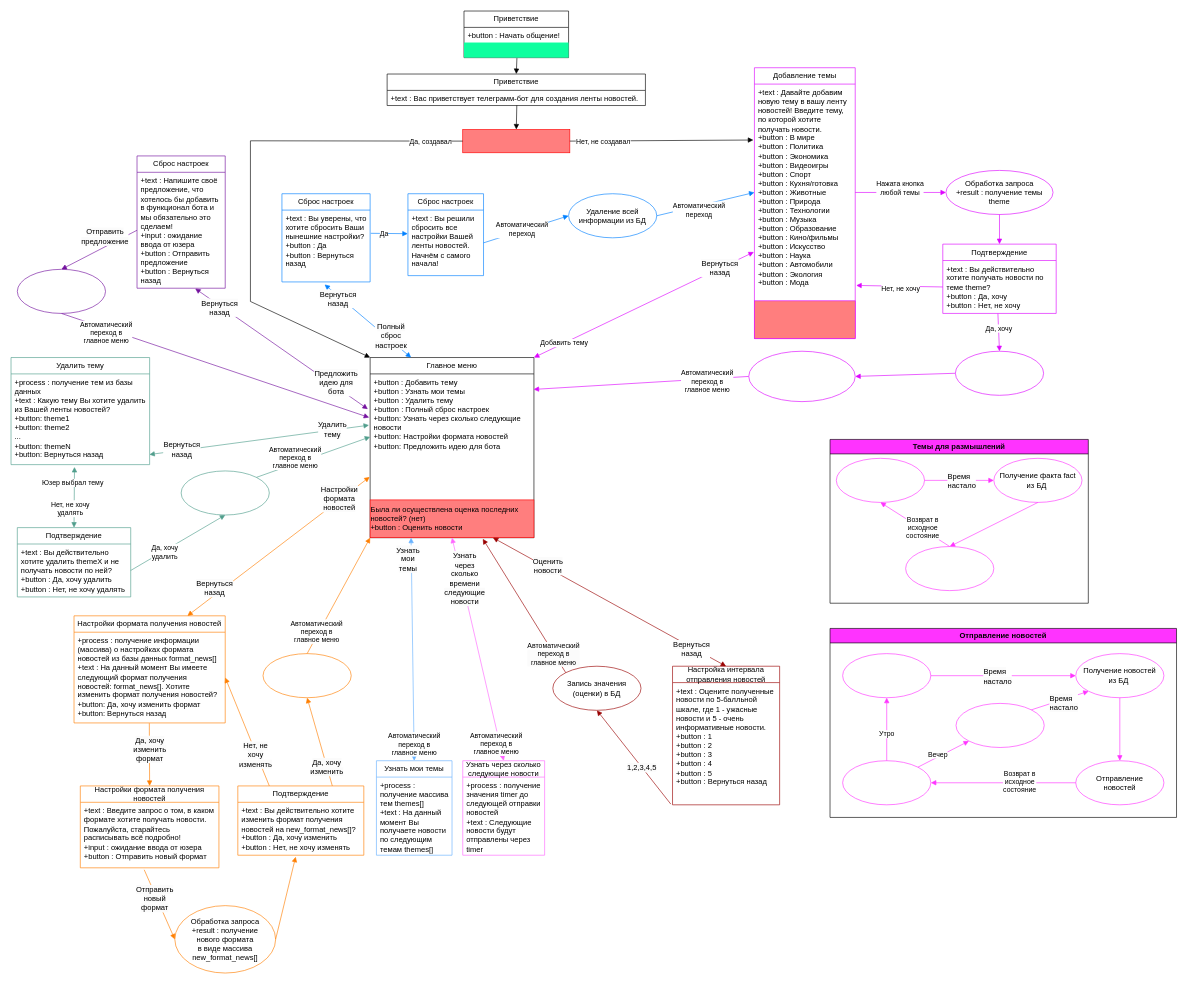
Some shapes in this 1188 by 984 pixel diagram are drawn without their labels. The centre of each missing label's shape, as x and y in pixels:
+specify : разовое действие: [516,49]
Запись значения темы в БД: [999,373]
Запись нового формата в БД: [306,675]
Запись предложения в БД: [61,291]
Ожидание времени Х (например 18:00): [999,725]
Ожидание времени Х (например 8:00 утра): [880,480]
Ожидание времени Х (например 8:00): [886,675]
Отправление утреннего факта fact пользователю: [949,568]
Проверка времени: [886,782]
Ранее юзер создавал ленту?: [516,141]
Ранее юзер создавал ленту? (да) +button : Вернуться назад: [804,319]
Удаление темы из БД: [224,492]
Установление интервала отправления новостей по умолчанию (1 час): [801,376]
